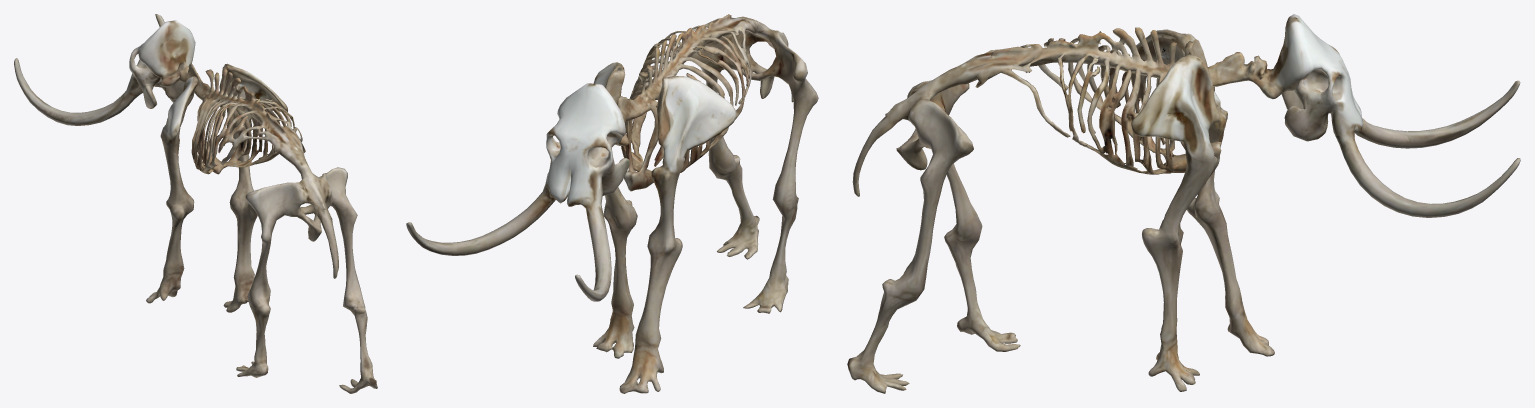
The model's file is mammut_glb.glb.
The picture shows the model from 3 angles, left to right: view 1: azimuth 30°, elevation 25°; view 2: azimuth 150°, elevation 25°; view 3: azimuth 270°, elevation 25°; orthographic projection. The views are drawn at different scales.
Visible parts, largest first — view 1: SM_animal_skeleton_01; view 2: SM_animal_skeleton_01; view 3: SM_animal_skeleton_01.
Boxes of the visible parts, x1=… form: SM_animal_skeleton_01: x1=14, y1=14, x2=377, y2=393; SM_animal_skeleton_01: x1=406, y1=14, x2=818, y2=393; SM_animal_skeleton_01: x1=847, y1=14, x2=1520, y2=393.
Size of the model in its own units: 2 by 3.33 by 5.84.
Materials: 1 (1 with a texture image).
